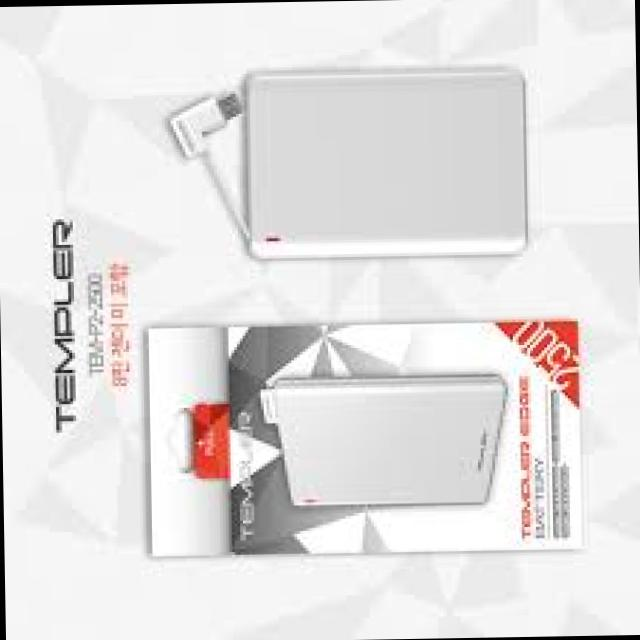power_bank: (232, 51, 530, 262), (267, 363, 509, 512)
